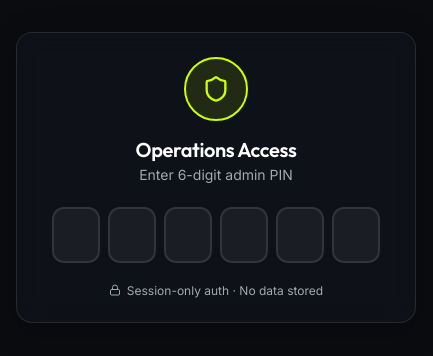
Scenario: PinGate › shows error on wrong PIN
Step 1. Type "0" into the password field named "PIN digit 1 of 6" → (76, 234), box [52, 206, 100, 262]
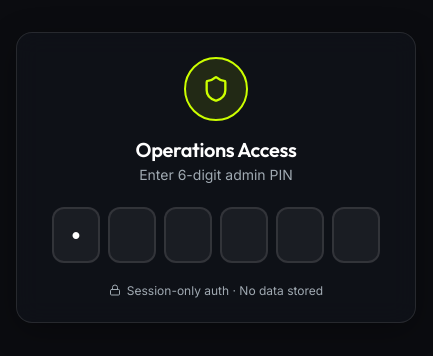
Step 2. Type "0" into the password field named "PIN digit 2 of 6" → (132, 234), box [108, 206, 156, 262]
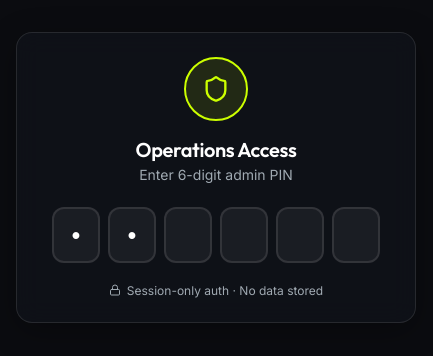
Step 3. Type "0" into the password field named "PIN digit 3 of 6" → (188, 234), box [164, 206, 212, 262]
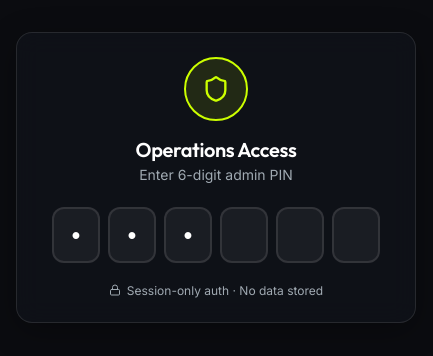
Step 4. Type "0" into the password field named "PIN digit 4 of 6" → (244, 234), box [220, 206, 268, 262]
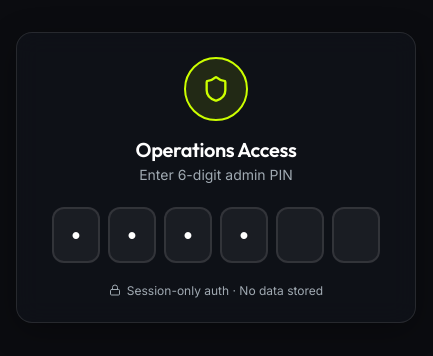
Step 5. Type "0" into the password field named "PIN digit 5 of 6" → (300, 234), box [276, 206, 324, 262]
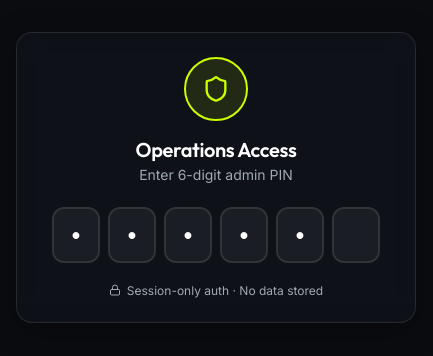
Step 6. Type "0" into the password field named "PIN digit 6 of 6" → (356, 234), box [332, 206, 380, 262]
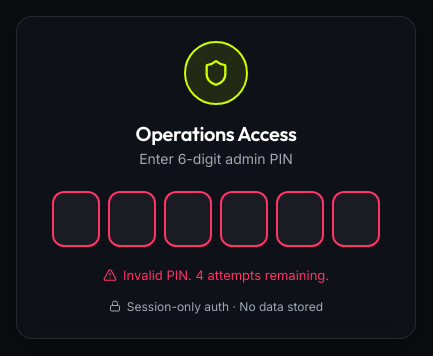
Expected: the text "Invalid PIN. 4 attempts remaining." is shown, [123, 266, 329, 282]
